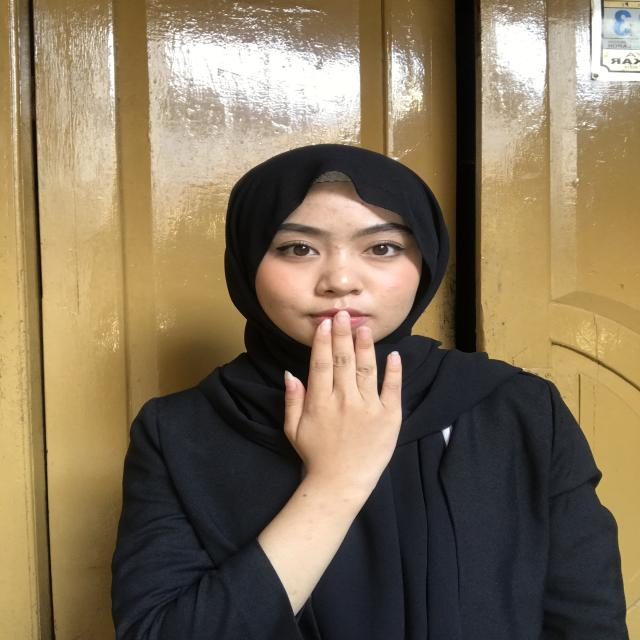ganteng: (248, 298, 433, 494)
